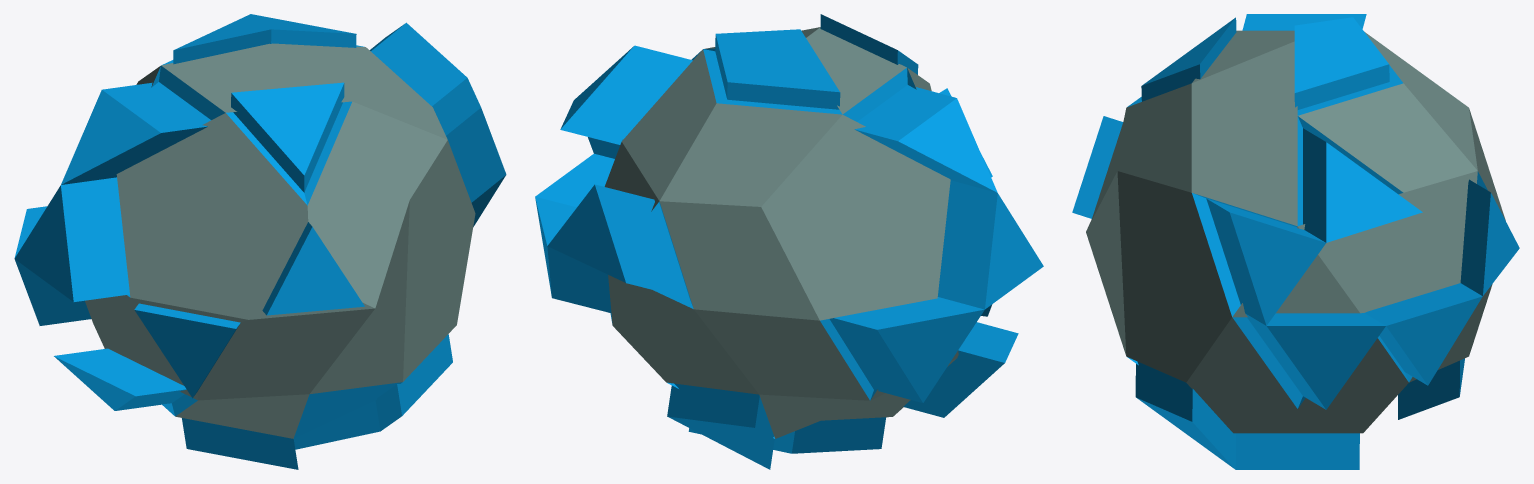
The model's file is planet2.fbx.
3 renders of one model, left to right at view 1: azimuth 30°, elevation 25°; view 2: azimuth 150°, elevation 25°; view 3: azimuth 270°, elevation 25°, orthographic.
Visible parts, largest first — view 1: Icosphere; view 2: Icosphere; view 3: Icosphere.
Boxes of the visible parts, bbox=[...] form: Icosphere: bbox=[14, 14, 506, 469]; Icosphere: bbox=[535, 14, 1043, 469]; Icosphere: bbox=[1072, 14, 1519, 469].
Bounding box in the file's own units: 244 × 225 × 211.
